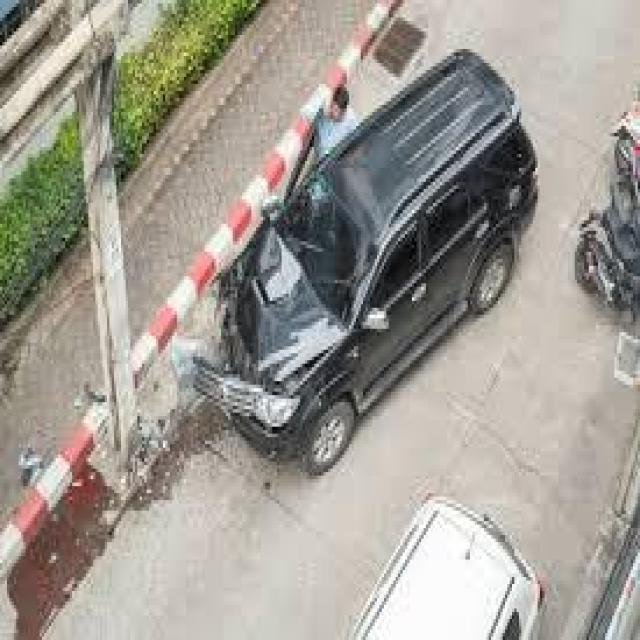moderate: (190, 42, 541, 479)
